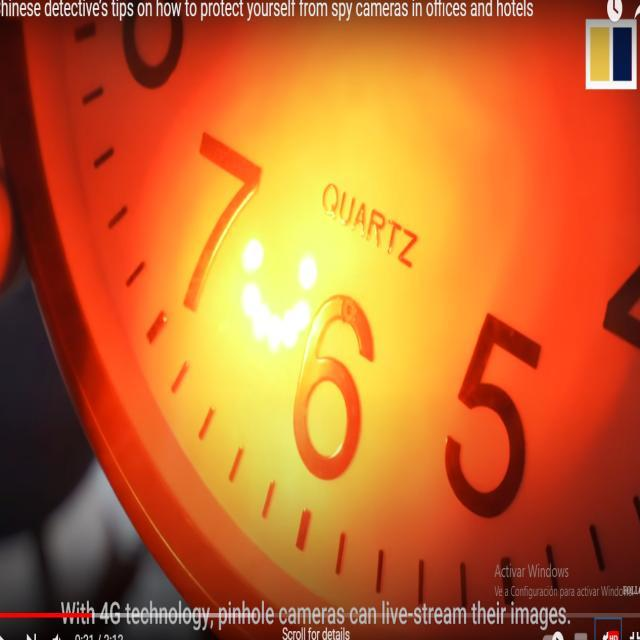hidden camera: (340, 294, 355, 319)
